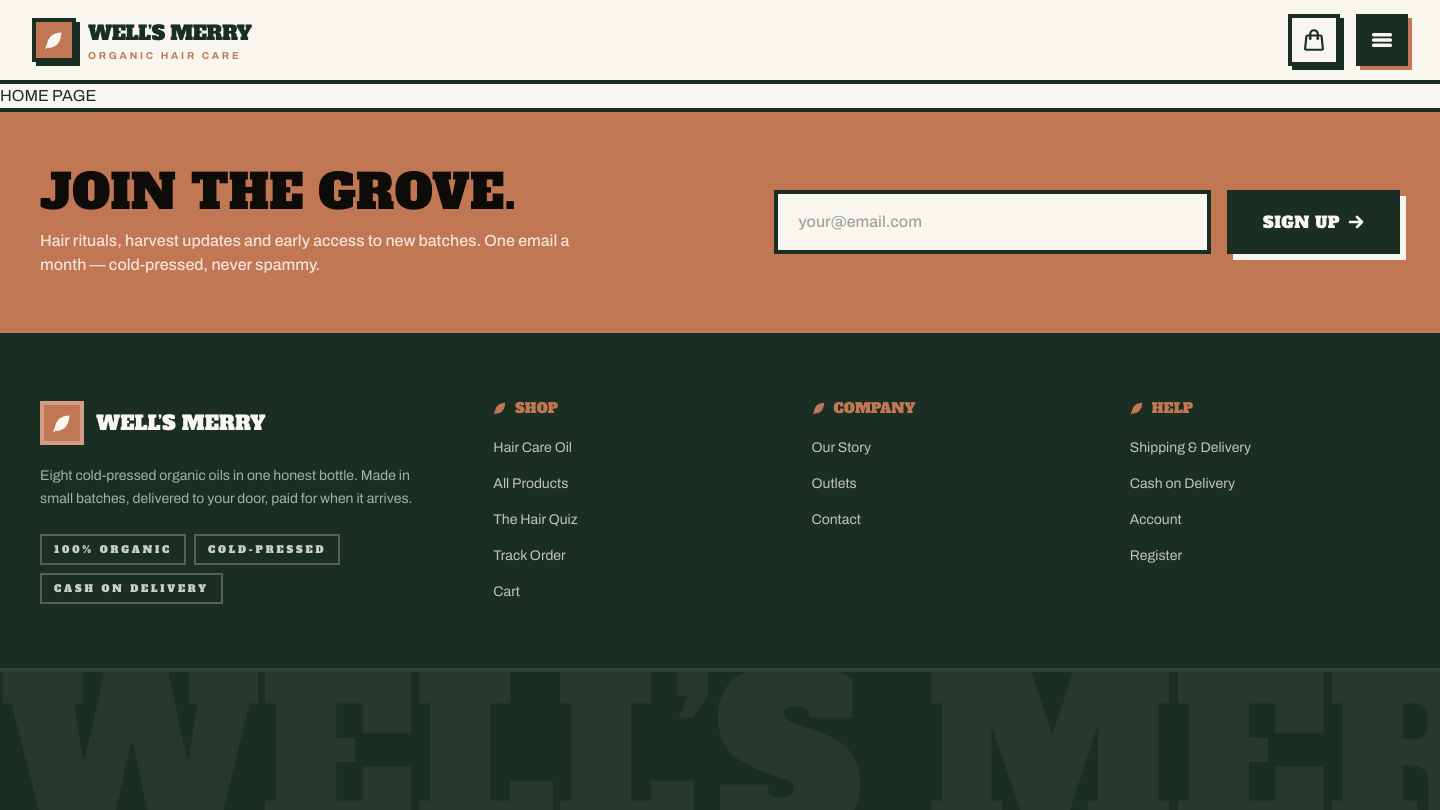
Test: Navbar overlay › lists the primary pages plus Track Order, Login and Sign Up
This screenshot has width=1440, height=810.
Click the button named "open menu" at x=1382, y=40, box [1356,14,1408,66]
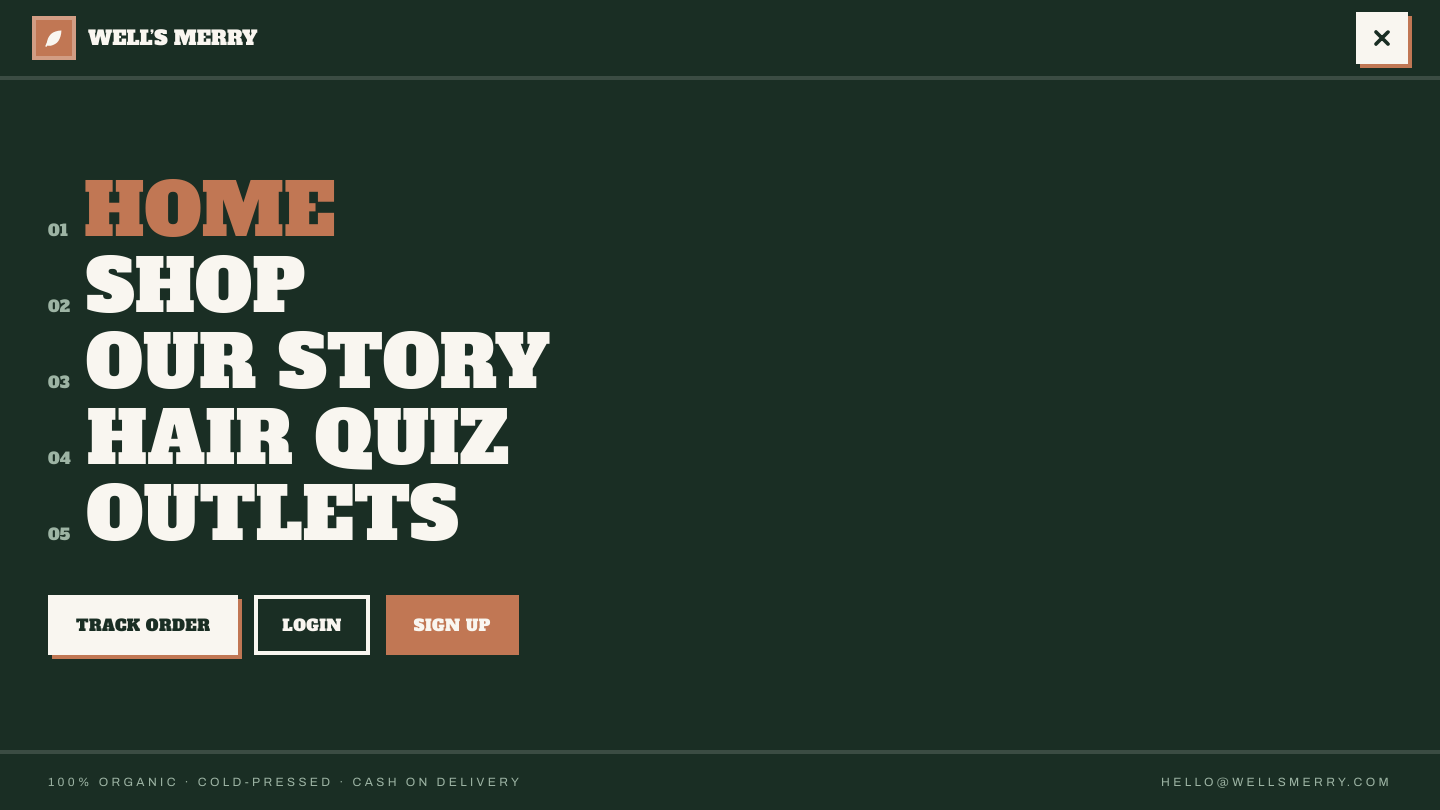
expect the link "01 Home" is shown: met, box [48,175,335,247]
expect the link "02 Shop" is shown: met, box [48,251,305,323]
expect the link "03 Our Story" is shown: met, box [48,327,550,399]
